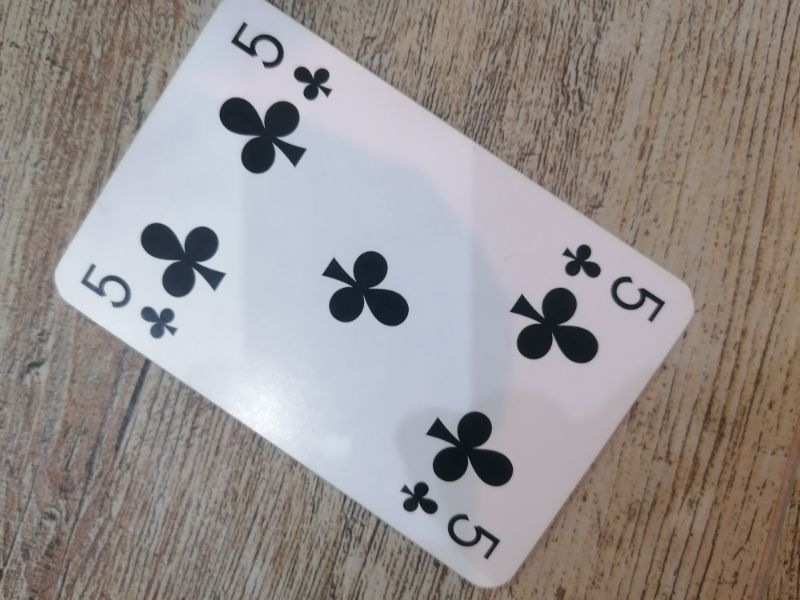5c: (556, 237, 668, 324), (393, 476, 505, 563), (228, 18, 339, 103), (76, 258, 182, 342)
